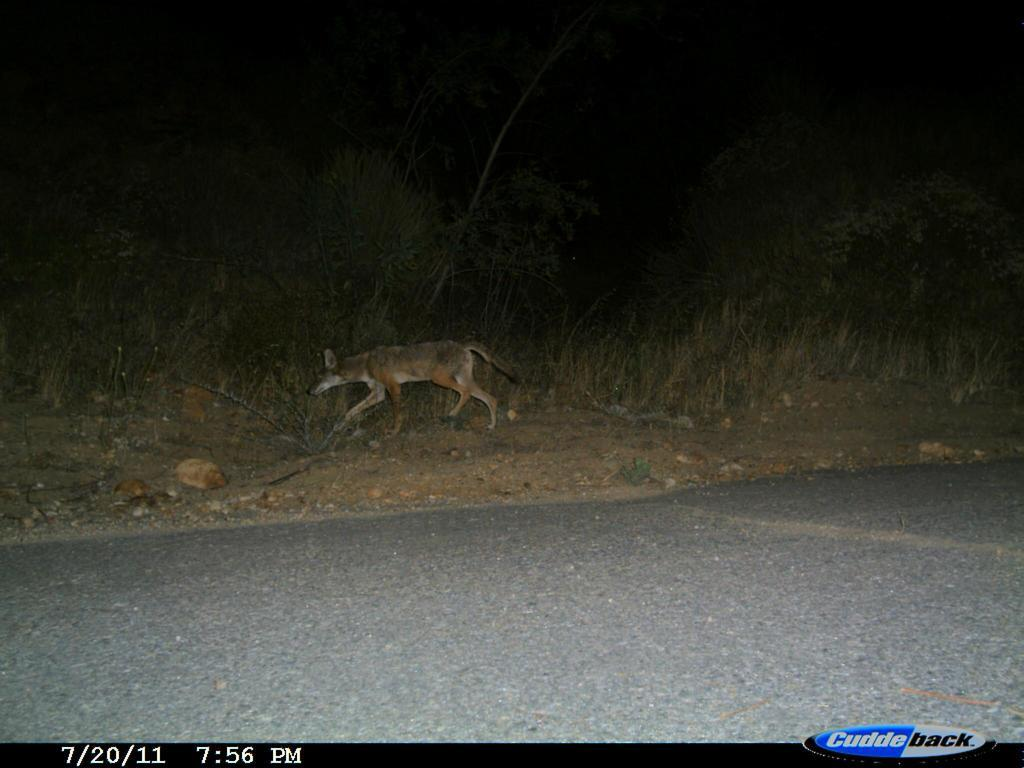coyote: (303, 332, 525, 443)
